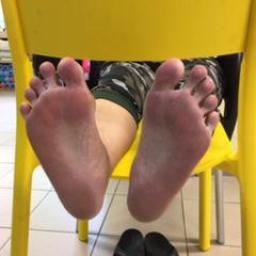Plantar View -Both Feet-: (8, 32, 230, 231)
